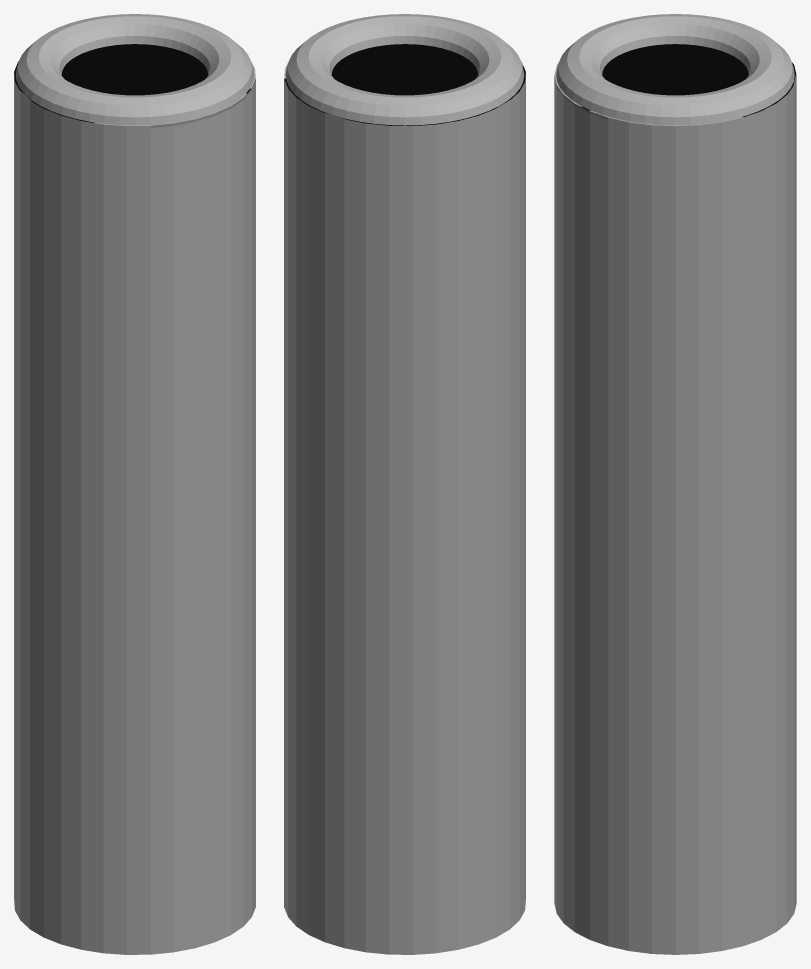
The model's file is Cannon1.obj.
The picture shows the model from 3 angles, left to right: view 1: azimuth 30°, elevation 25°; view 2: azimuth 150°, elevation 25°; view 3: azimuth 270°, elevation 25°; orthographic projection.
Parts seen in each view (by area): view 1: 円柱; view 2: 円柱; view 3: 円柱.
Boxes of the visible parts, box(x1,y1,x2,y2) form: 円柱: box(14, 14, 255, 954); 円柱: box(284, 14, 525, 954); 円柱: box(554, 14, 796, 954).
Bounding box in the file's own units: 1.34 × 5.17 × 1.34.
Materials: 1 (1 with a texture image).
